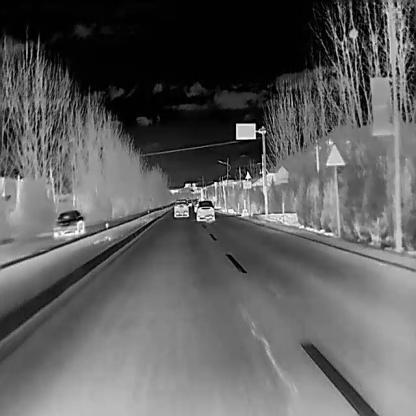car: (52, 209, 84, 237), (196, 200, 215, 221), (173, 198, 188, 217)
